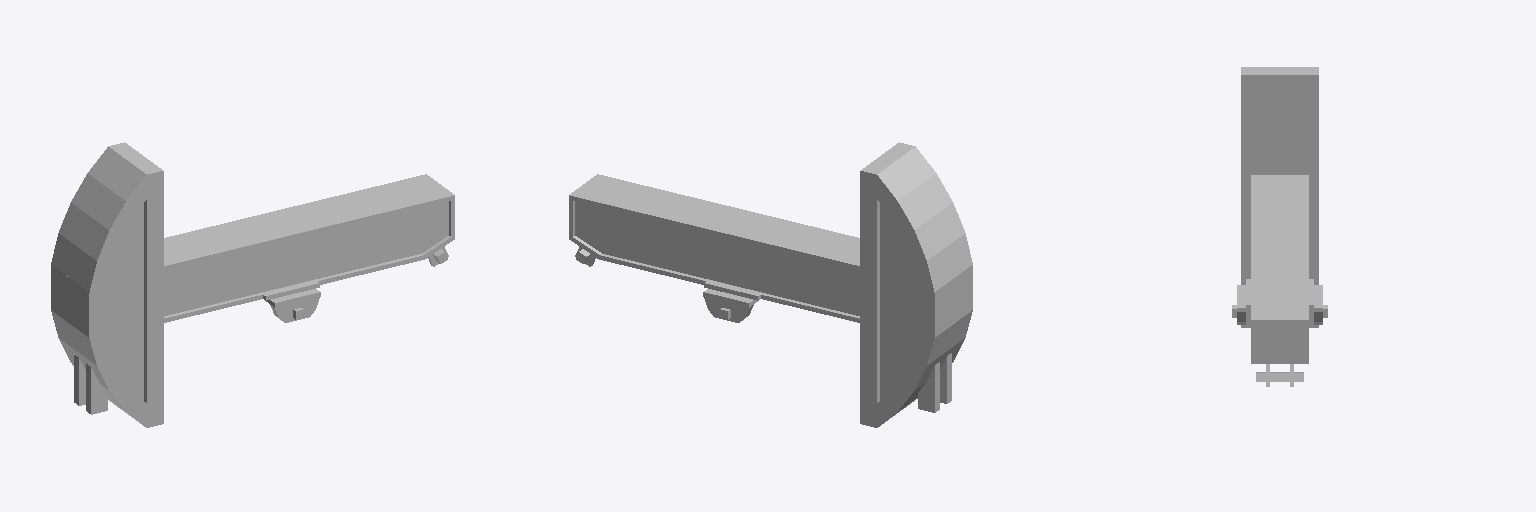
Rendered from pumpjack_arm.obj.
3 views of the same model, side by side, from view 1: azimuth 30°, elevation 25°; view 2: azimuth 150°, elevation 25°; view 3: azimuth 270°, elevation 25° (orthographic).
Visible parts, largest first — view 1: cube.009, cube.003, cube.010, cube.011, cube.016, cube.033, cube.014, cube.034, cube.032, cube.035, cube.039, cube.038 (+6 smaller); view 2: cube.009, cube.003, cube.010, cube.011, cube.016, cube.033, cube.014, cube.034, cube.032, cube.035, cube.039, cube.038 (+5 smaller); view 3: cube.010, cube.003, cube.004.
Part boxes in pixels (bbox=[...]): cube.009: bbox=[164, 205, 431, 315]; cube.003: bbox=[164, 175, 450, 270]; cube.010: bbox=[108, 142, 163, 427]; cube.011: bbox=[128, 204, 143, 400]; cube.016: bbox=[51, 265, 105, 337]; cube.033: bbox=[71, 173, 139, 236]; cube.014: bbox=[111, 230, 127, 382]; cube.034: bbox=[59, 203, 122, 261]; cube.032: bbox=[88, 147, 146, 207]; cube.035: bbox=[51, 233, 112, 292]; cube.039: bbox=[51, 310, 112, 365]; cube.038: bbox=[59, 338, 123, 390]; cube.009: bbox=[592, 205, 859, 315]; cube.003: bbox=[573, 175, 859, 270]; cube.010: bbox=[860, 142, 915, 427]; cube.011: bbox=[880, 204, 895, 400]; cube.016: bbox=[918, 265, 972, 337]; cube.033: bbox=[884, 173, 952, 236]; cube.014: bbox=[896, 230, 912, 382]; cube.034: bbox=[901, 203, 964, 261]; cube.032: bbox=[877, 147, 935, 207]; cube.035: bbox=[911, 233, 972, 292]; cube.039: bbox=[911, 310, 972, 365]; cube.038: bbox=[900, 338, 964, 390]; cube.010: bbox=[1241, 67, 1318, 327]; cube.003: bbox=[1251, 175, 1308, 317]; cube.004: bbox=[1251, 318, 1308, 363].
Size of the model in its own units: 5.56 by 3.62 by 1.25.